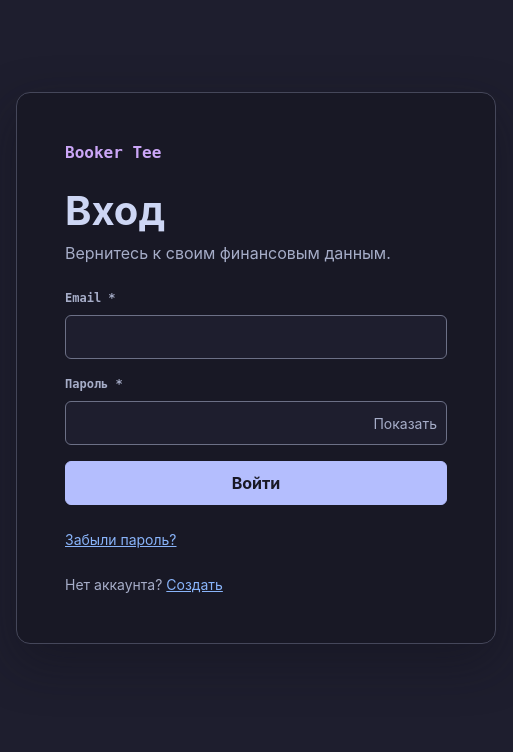
LoginRoute › uses native auth semantics and focuses the first invalid field
Click the button "Показать": (405, 423) [367,401,443,445]
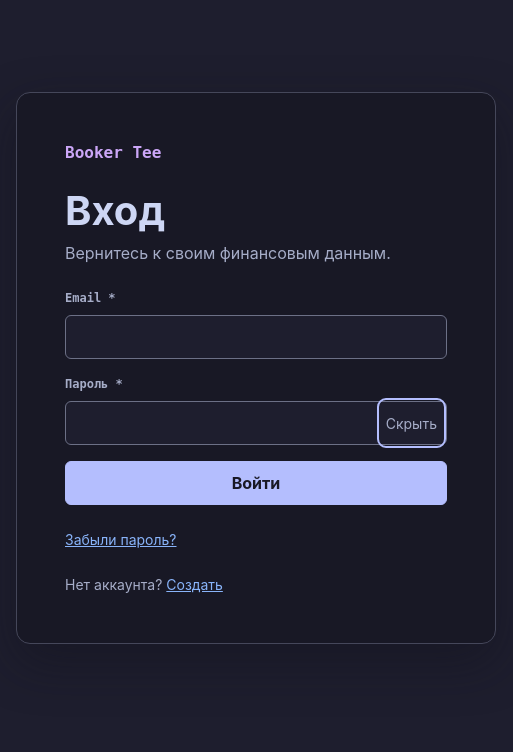
Click the button "Войти": (256, 483) [65,461,447,505]
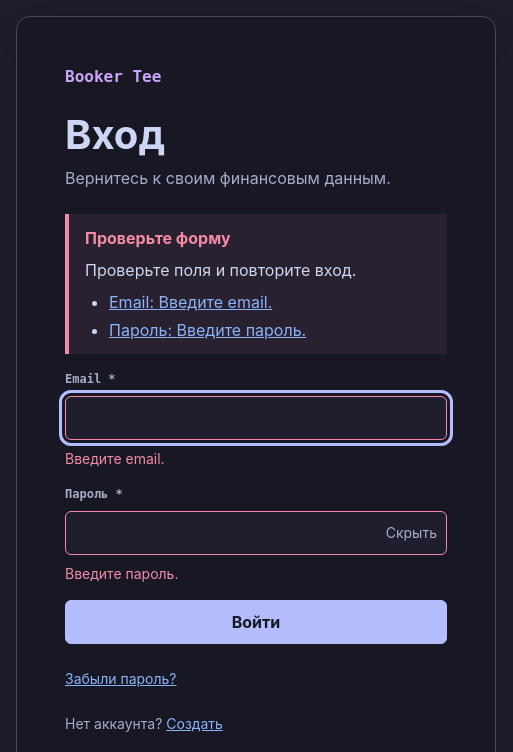
Expected: the message shows "Введите email", [109,292,272,312]
